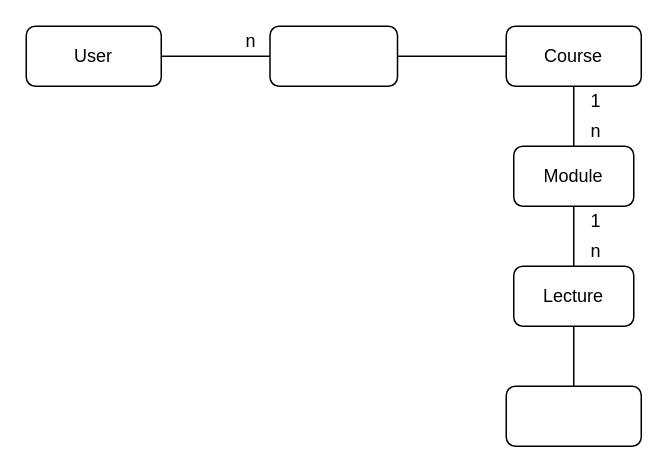
Some shapes in this 668 by 473 pixel diagram are drawn without their labels. Each missing label, with the centre of its shape:
"Enrollment" goes at point 333,55.
"Video" goes at point 573,415.
